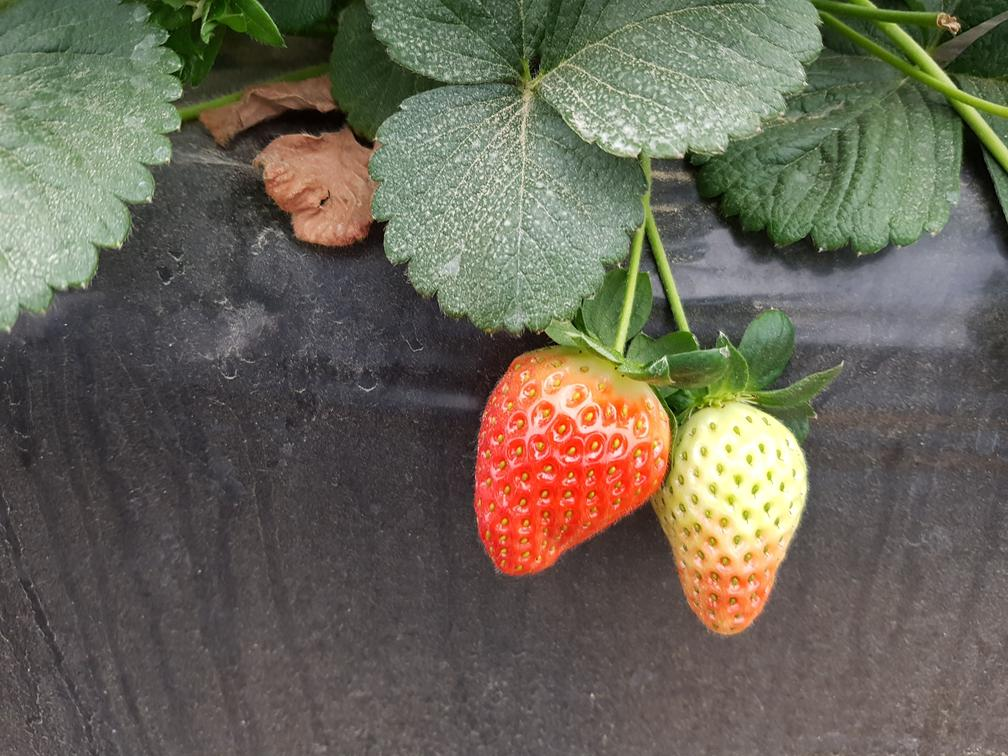Ripe: (465, 335, 673, 585)
Unripe: (671, 399, 812, 646)
